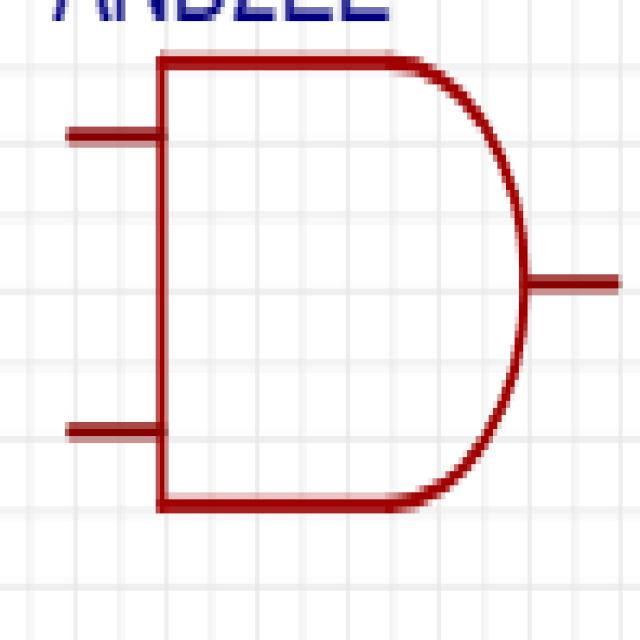and: (47, 36, 633, 547)
